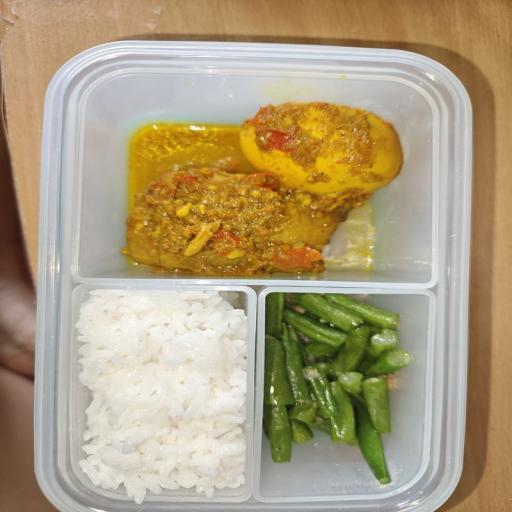buncis_rebus: (264, 282, 448, 502)
nasi_putih: (66, 282, 260, 512)
